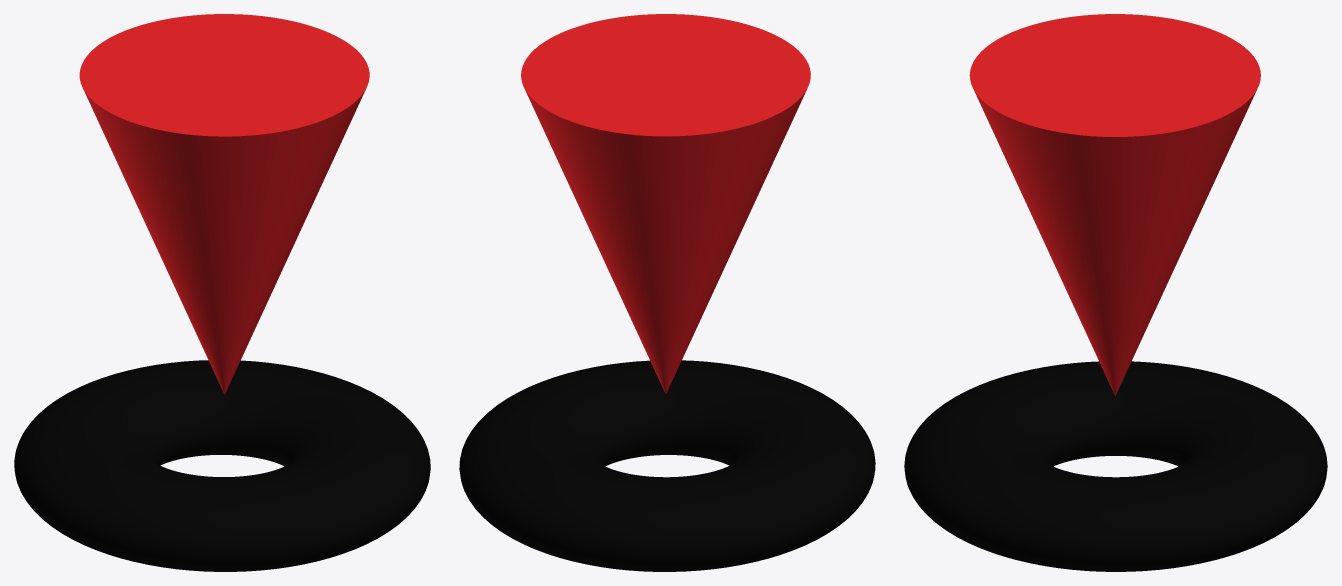
File: here.fbx
3 renders of one model, left to right at view 1: azimuth 30°, elevation 25°; view 2: azimuth 150°, elevation 25°; view 3: azimuth 270°, elevation 25°, orthographic.
Visible parts, largest first — view 1: root (×2); view 2: root (×2); view 3: root (×2).
Boxes of the visible parts, left/top/right/bottom form: root (×2): left=14, top=14, right=430, bottom=571; root (×2): left=459, top=14, right=875, bottom=571; root (×2): left=904, top=14, right=1327, bottom=571.
Bounding box in the file's own units: 0.2788 × 0.3168 × 0.2835.
2 materials, 2 textured.
